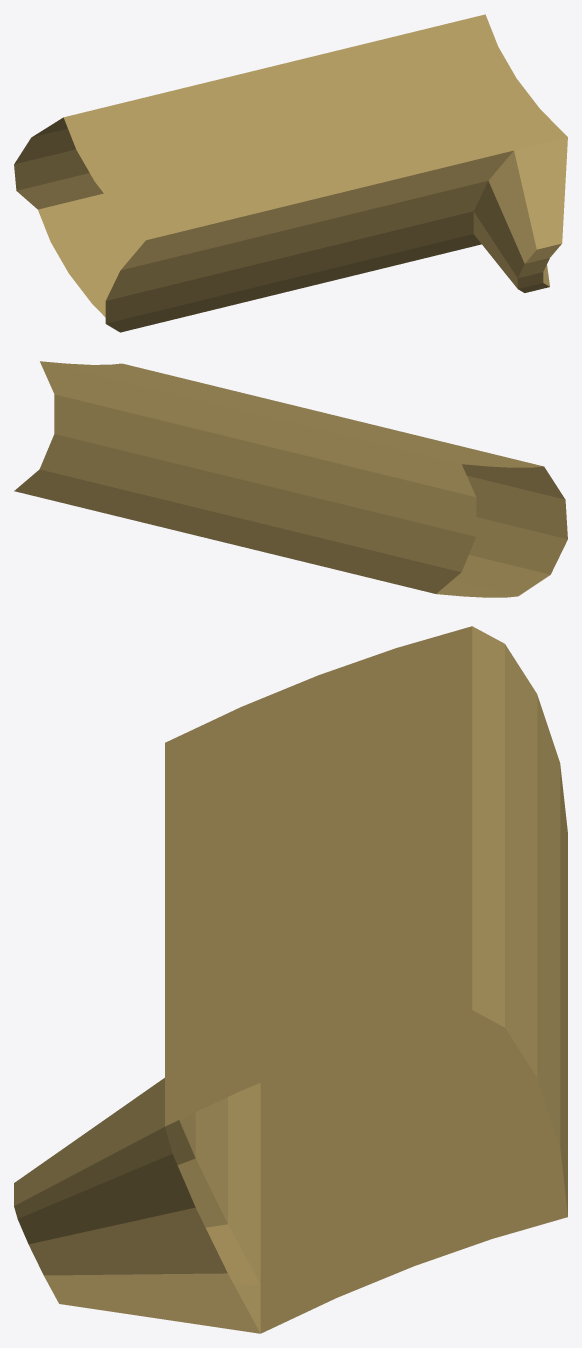
File: chiavepezzo2.fbx
3 renders of one model, top to bottom at view 1: azimuth 30°, elevation 25°; view 2: azimuth 150°, elevation 25°; view 3: azimuth 270°, elevation 25°, orthographic. The views are drawn at different scales.
Visible parts, largest first — view 1: Torus.003; view 2: Torus.003; view 3: Torus.003.
Part boxes in pixels (left/top/right/bottom): Torus.003: left=14, top=14, right=567, bottom=332; Torus.003: left=14, top=361, right=567, bottom=597; Torus.003: left=14, top=626, right=567, bottom=1333.
Bounding box in the file's own units: 8.6 × 3.26 × 4.88.
